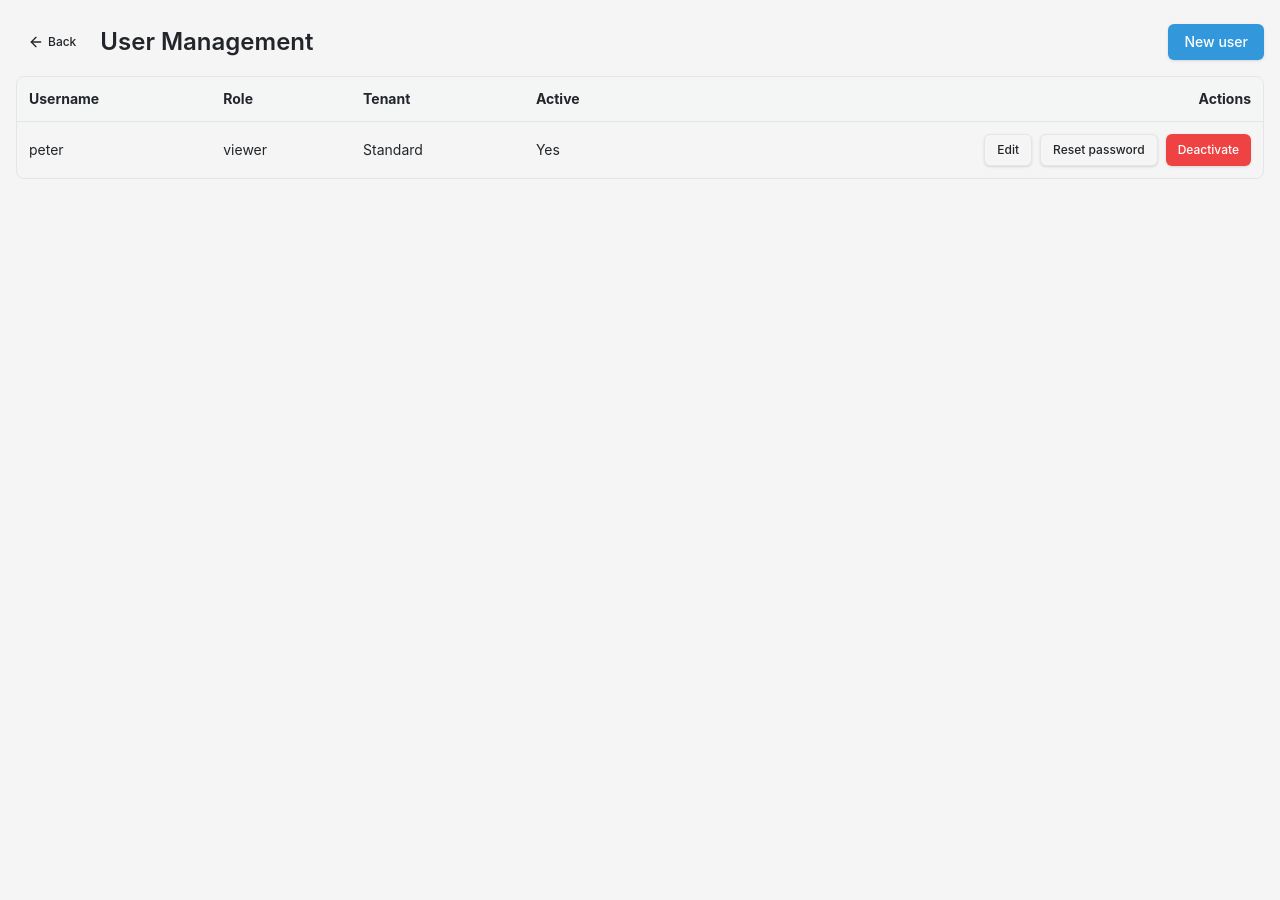
Scenario: AdminUsersPage › pre-selects the user’s tenant when editing
Step 1. Click the button "Edit" → (1008, 150), box [984, 134, 1032, 166]
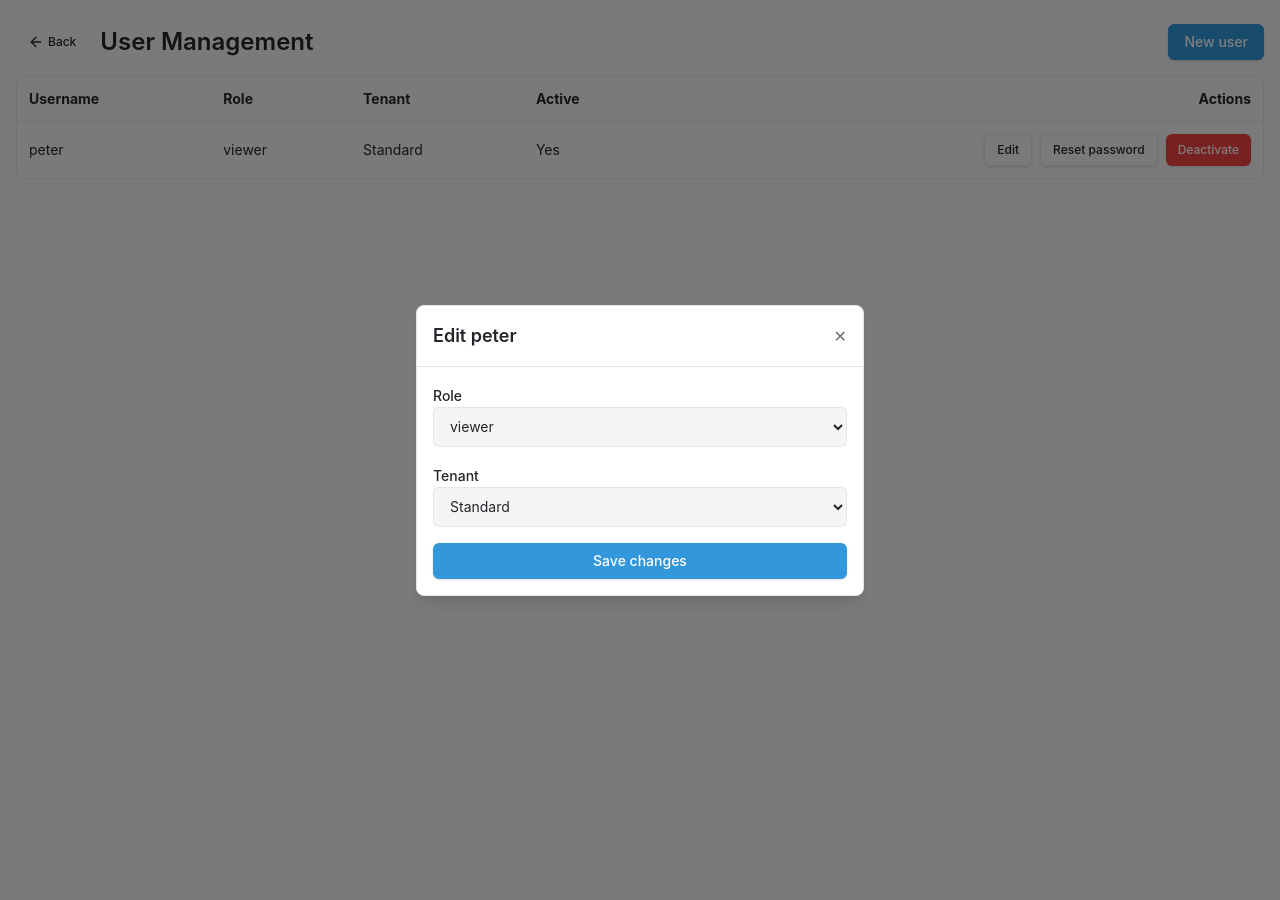
Now the dropdown labelled "Tenant" shows "Standard", box [433, 486, 847, 526]
